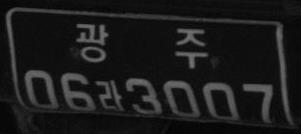0: (201, 79, 240, 121), (163, 79, 201, 118), (24, 69, 58, 109)
3: (125, 77, 163, 115)
6: (60, 71, 96, 113)
7: (241, 82, 275, 124)
광주_D: (75, 20, 209, 69)
라: (95, 78, 123, 113)
